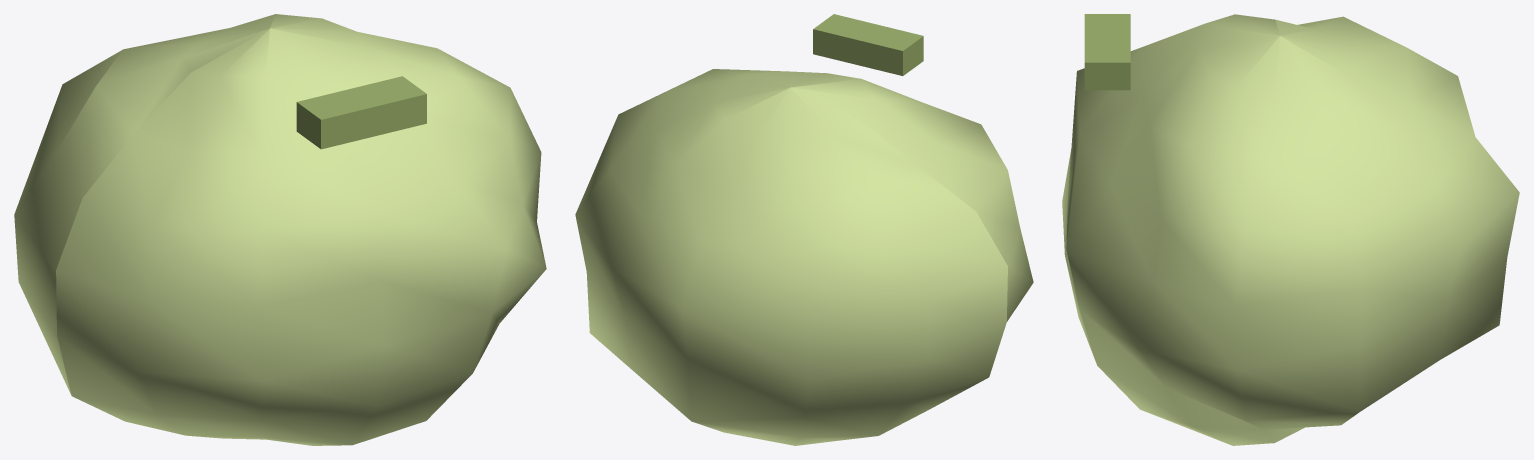
File: haba.glb
3 views of the same model, side by side, from view 1: azimuth 30°, elevation 25°; view 2: azimuth 150°, elevation 25°; view 3: azimuth 270°, elevation 25° (orthographic). The views are drawn at different scales.
Parts seen in each view (by area): view 1: cuerpo, ombligo; view 2: cuerpo, ombligo; view 3: cuerpo, ombligo.
Boxes of the visible parts, <box> form: cuerpo: <box>14,14,546,445</box>; ombligo: <box>296,76,426,149</box>; cuerpo: <box>575,69,1033,445</box>; ombligo: <box>813,14,923,75</box>; cuerpo: <box>1062,14,1519,445</box>; ombligo: <box>1084,14,1130,90</box>.
Bounding box in the file's own units: 0.1367 × 0.1079 × 0.1195.
